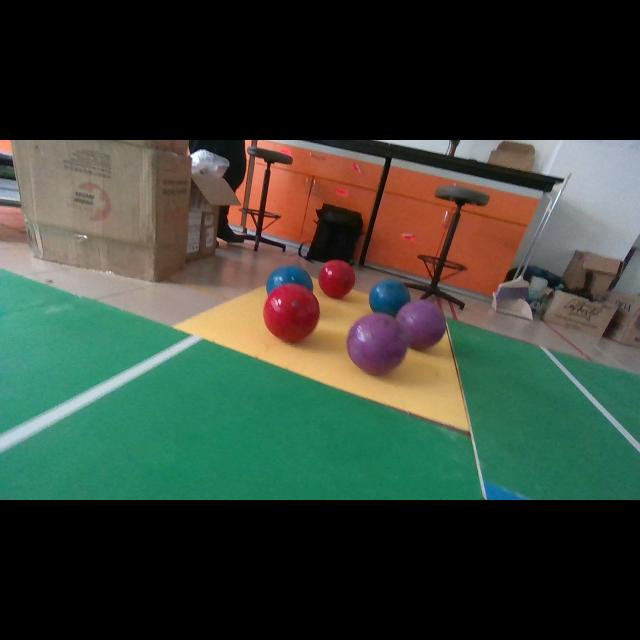B: (370, 279, 410, 316), (266, 265, 314, 294)
P: (346, 312, 409, 374), (396, 300, 446, 350)
R: (264, 284, 320, 342), (319, 259, 355, 299)
